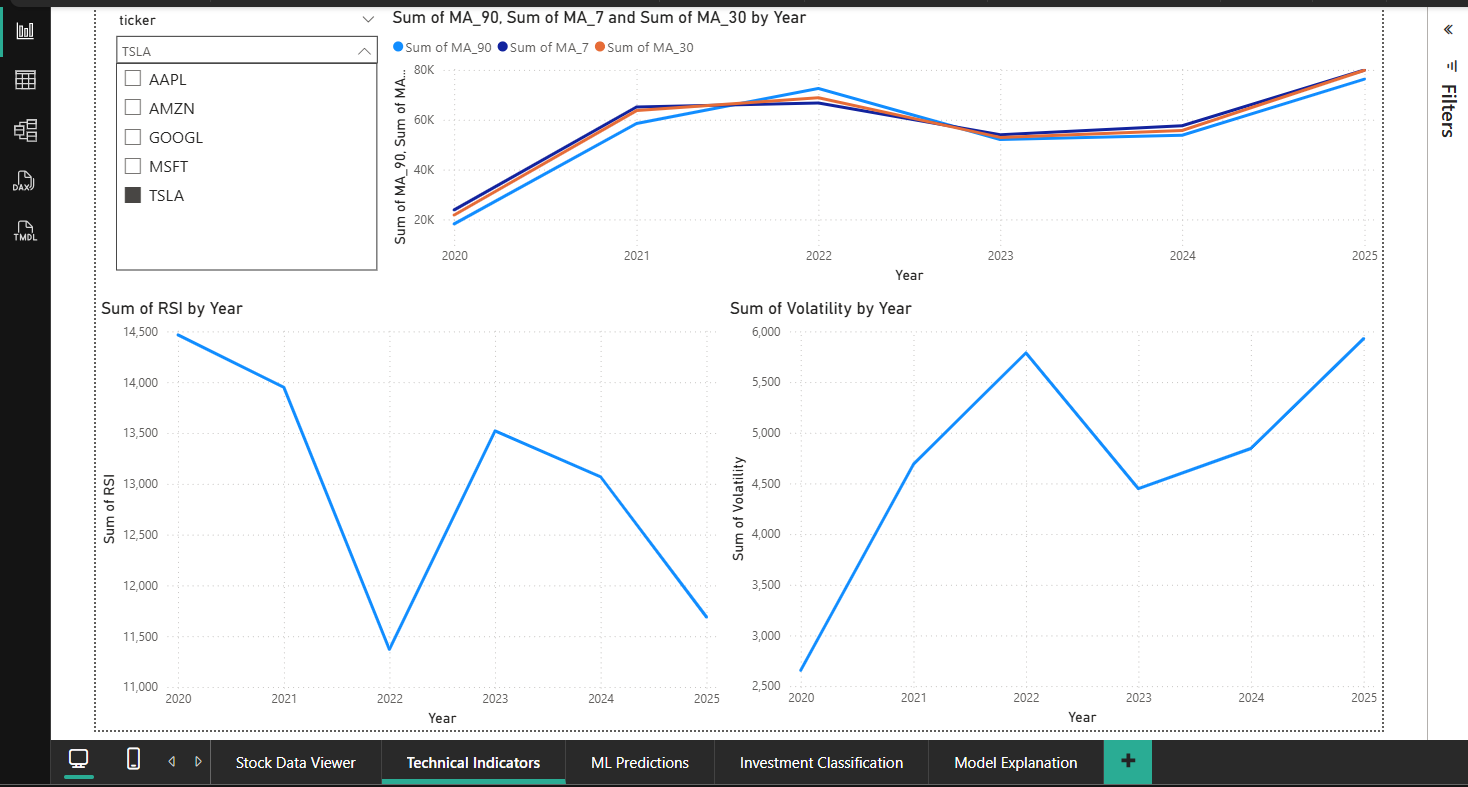

The page's visual inventory and layout, read from the dashboard file:
{"tool":"powerbi","page":{"name":"Technical Indicators","canvas":[1280,720],"ordinal":1},"visuals":[{"type":"slicer","fields":{"Values":["technical_indicators.ticker"]},"box":[10,0,280,280],"z":0},{"type":"lineChart","fields":{"Category":["technical_indicators.date.Variation.Date Hierarchy.Year","technical_indicators.date.Variation.Date Hierarchy.Quarter","technical_indicators.date.Variation.Date Hierarchy.Month","technical_indicators.date.Variation.Date Hierarchy.Day"],"Y":["Sum(technical_indicators.MA_90)","Sum(technical_indicators.MA_7)","Sum(technical_indicators.MA_30)"]},"box":[289.5,0,990.7,279.9],"z":1000},{"type":"lineChart","fields":{"Category":["technical_indicators.date.Variation.Date Hierarchy.Year","technical_indicators.date.Variation.Date Hierarchy.Quarter","technical_indicators.date.Variation.Date Hierarchy.Month","technical_indicators.date.Variation.Date Hierarchy.Day"],"Y":["Sum(technical_indicators.RSI)"]},"box":[0,289.5,625.7,430.9],"z":2000},{"type":"lineChart","fields":{"Category":["technical_indicators.date.Variation.Date Hierarchy.Year","technical_indicators.date.Variation.Date Hierarchy.Quarter","technical_indicators.date.Variation.Date Hierarchy.Month","technical_indicators.date.Variation.Date Hierarchy.Day"],"Y":["Sum(technical_indicators.Volatility)"]},"box":[626,290,654,430],"z":3000}]}

Visuals, with their boxes on the page's 1280x720 design canvas (x1, y1, x2, y2). These are canvas units, not pixel positions in the 1468x787 screenshot, which may show the page scaled, cropped or inside an application window:
slicer - technical_indicators.ticker: pyautogui.locateOnScreen(10, 0, 290, 280)
lineChart - technical_indicators.date.Variation.Date Hierarchy.Year x technical_indicators.date.Variation.Date Hierarchy.Quarter: pyautogui.locateOnScreen(290, 0, 1280, 280)
lineChart - technical_indicators.date.Variation.Date Hierarchy.Year x technical_indicators.date.Variation.Date Hierarchy.Quarter: pyautogui.locateOnScreen(0, 290, 626, 720)
lineChart - technical_indicators.date.Variation.Date Hierarchy.Year x technical_indicators.date.Variation.Date Hierarchy.Quarter: pyautogui.locateOnScreen(626, 290, 1280, 720)
